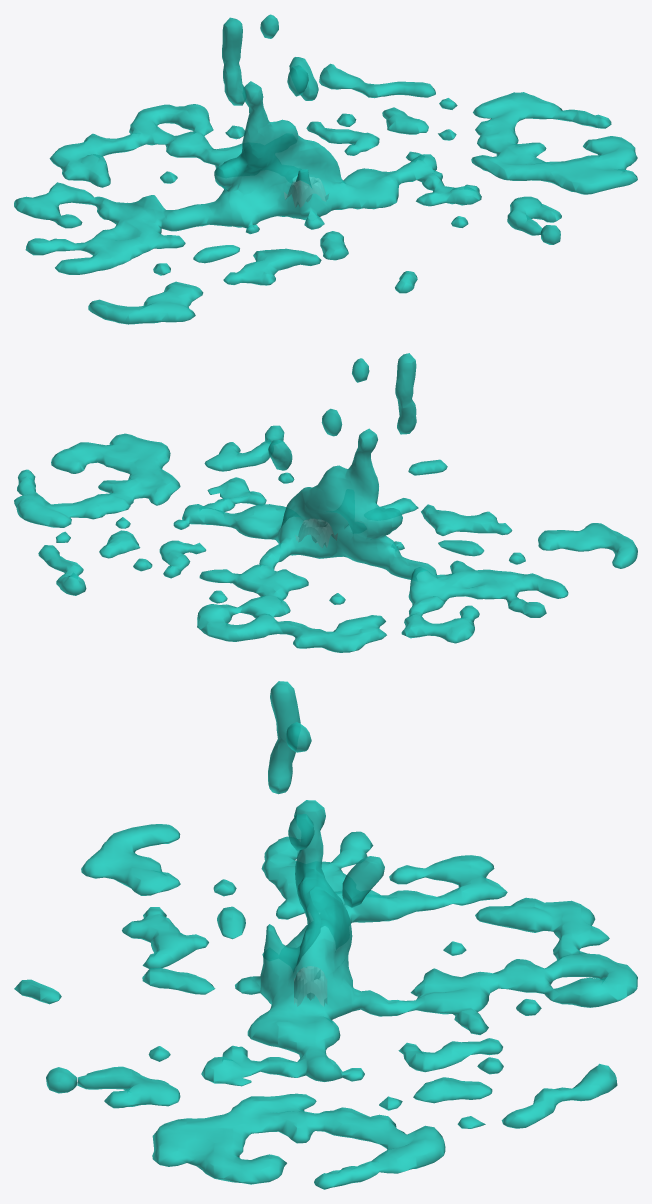
The picture shows the model from 3 angles, top to bottom: view 1: azimuth 30°, elevation 25°; view 2: azimuth 150°, elevation 25°; view 3: azimuth 270°, elevation 25°; orthographic projection. The views are drawn at different scales.
Visible parts, largest first — view 1: Liquid_Domain, グリッド; view 2: Liquid_Domain, グリッド; view 3: Liquid_Domain, グリッド.
Part boxes in pixels (left/top/right/bottom): Liquid_Domain: left=14, top=14, right=637, bottom=324; グリッド: left=284, top=177, right=328, bottom=207; Liquid_Domain: left=14, top=353, right=637, bottom=652; グリッド: left=295, top=519, right=337, bottom=547; Liquid_Domain: left=14, top=681, right=637, bottom=1189; グリッド: left=294, top=966, right=326, bottom=1006.
Size of the model in its own units: 7.62 by 2.72 by 5.63.
